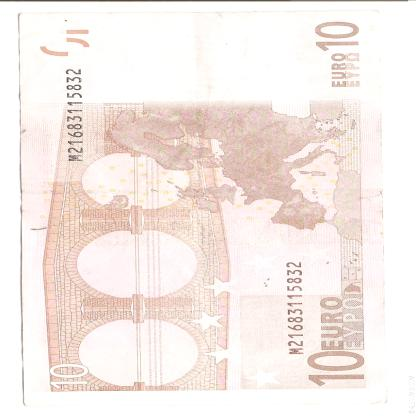euro_banknote: (5, 29, 403, 392)
